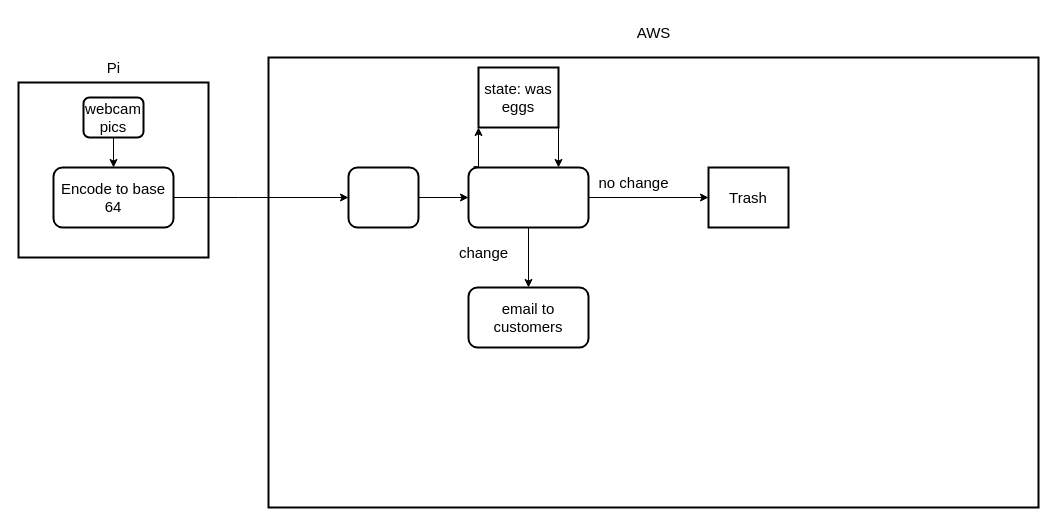
Some shapes in this 1056 by 525 pixel diagram are drawn without their labels. Here are the shapes that lost their labels. From the top down, the centre of each, then its label:
At point (383, 197): "Load balancer".
At point (528, 197): "Check for eggs Lambda".
